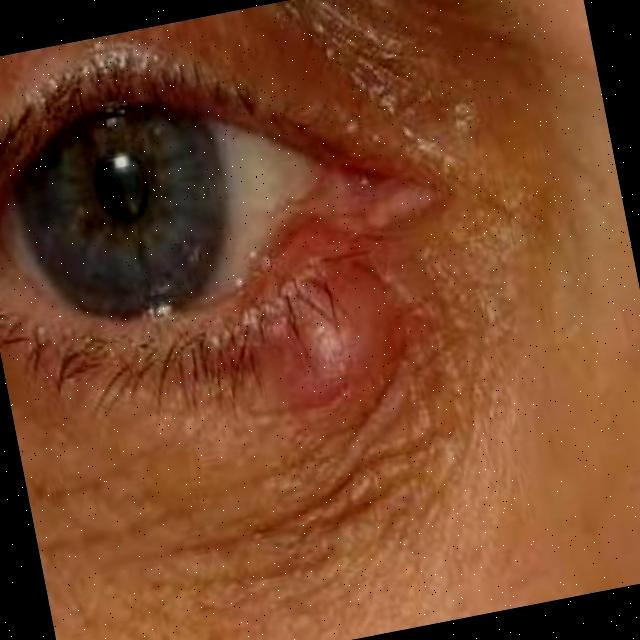Stye: (190, 176, 460, 474)
